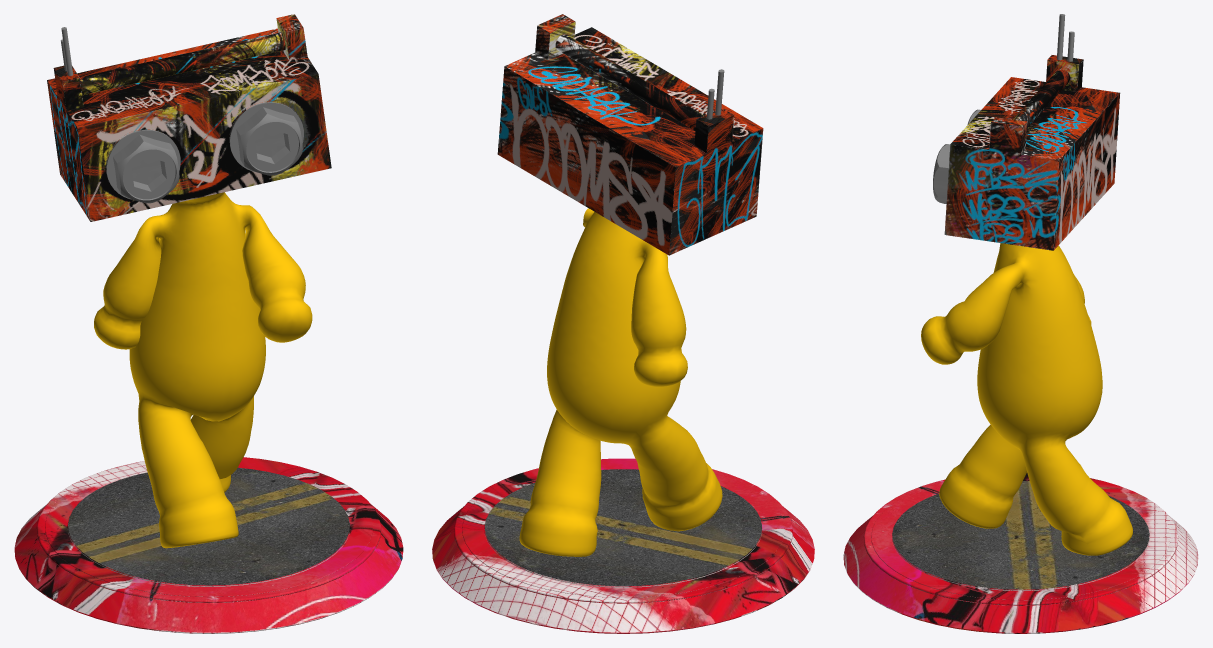
Rendered from 8_sanitized.glb.
3 views of the same model, side by side, from view 1: azimuth 30°, elevation 25°; view 2: azimuth 150°, elevation 25°; view 3: azimuth 270°, elevation 25° (orthographic). The views are drawn at different scales.
Visible parts, largest first — view 1: BBody; view 2: BBody; view 3: BBody.
Boxes of the visible parts, x1=… form: BBody: x1=14, y1=14, x2=403, y2=633; BBody: x1=432, y1=14, x2=814, y2=633; BBody: x1=843, y1=14, x2=1198, y2=633.
Bounding box in the file's own units: 1.45 × 2.2 × 1.45.
5 materials, 3 textured.
